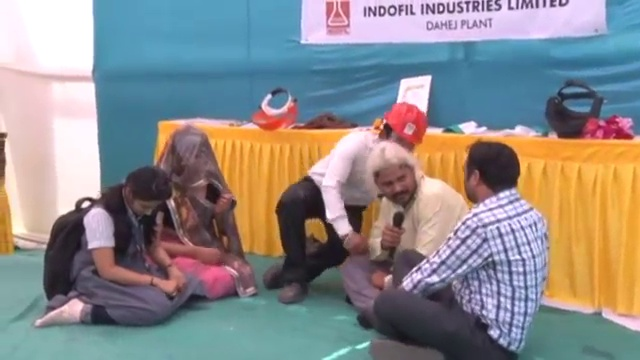helmet: (383, 101, 427, 142)
helmet_off: (357, 137, 424, 206), (462, 139, 523, 213), (116, 168, 177, 223), (163, 131, 217, 193)
helmet_on: (371, 102, 427, 153)
person: (364, 143, 549, 360), (258, 104, 429, 293), (38, 170, 191, 325), (335, 140, 470, 310), (149, 122, 246, 301)
